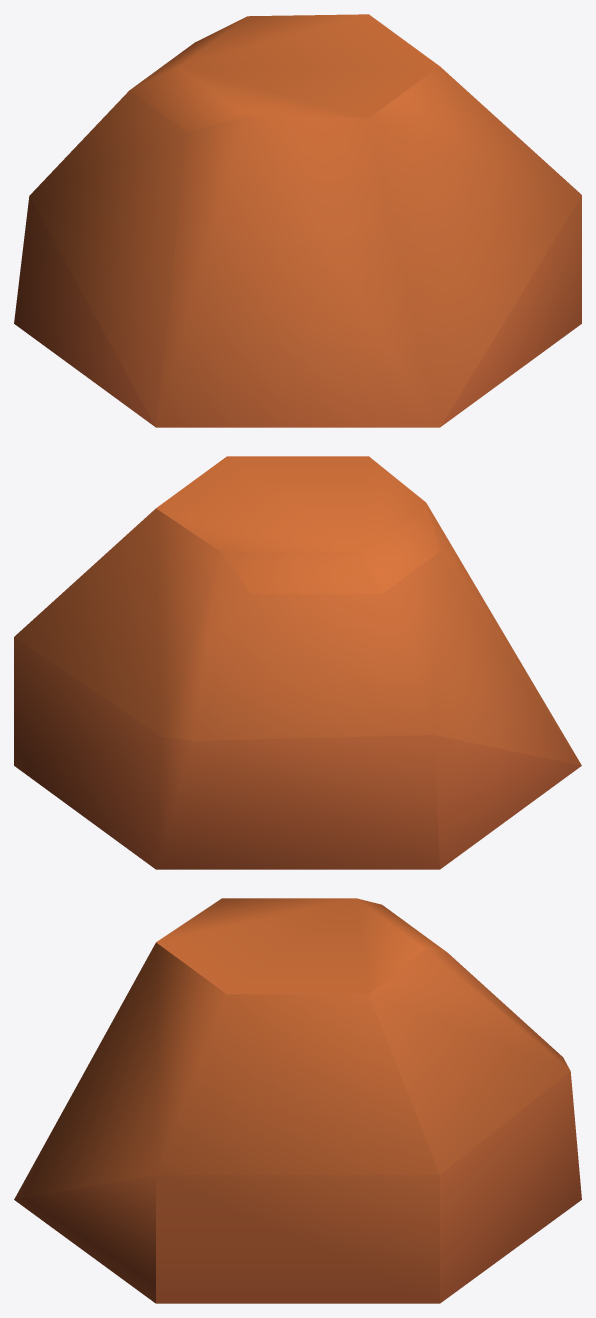
Rendered from rock_b.glb.
3 renders of one model, top to bottom at view 1: azimuth 30°, elevation 25°; view 2: azimuth 150°, elevation 25°; view 3: azimuth 270°, elevation 25°, orthographic.
Visible parts, largest first — view 1: rock_B; view 2: rock_B; view 3: rock_B.
Boxes of the visible parts, <box> form: rock_B: <box>14,14,581,427</box>; rock_B: <box>14,456,581,869</box>; rock_B: <box>14,898,581,1303</box>.
Bounding box in the file's own units: 0.6953 × 0.4015 × 0.8028.
1 material, 1 textured.
